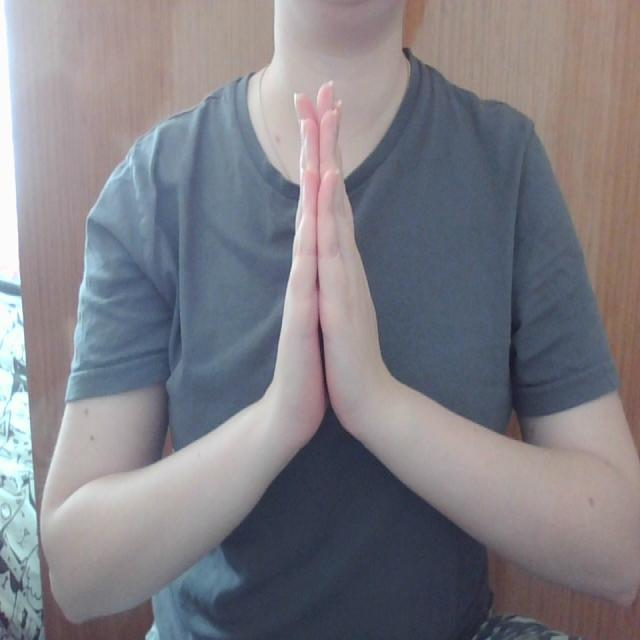Ozur-Dilemek: (265, 76, 395, 485)
